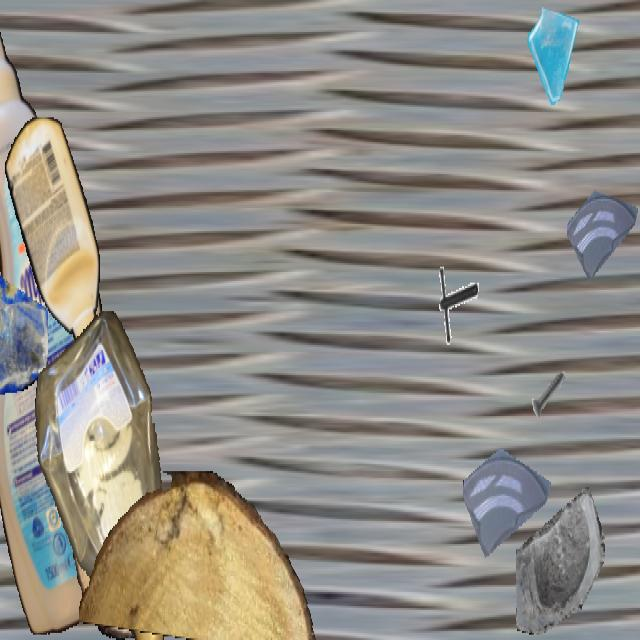glass: (516, 482, 604, 638), (463, 416, 551, 572), (567, 162, 639, 290), (0, 231, 48, 398), (526, 2, 584, 105), (0, 412, 1, 562)
metal: (69, 267, 131, 377), (430, 261, 478, 347), (528, 357, 570, 432)
plastic: (0, 2, 150, 634), (30, 311, 176, 638), (5, 117, 99, 345)
wood: (79, 471, 319, 638), (71, 450, 147, 638)
